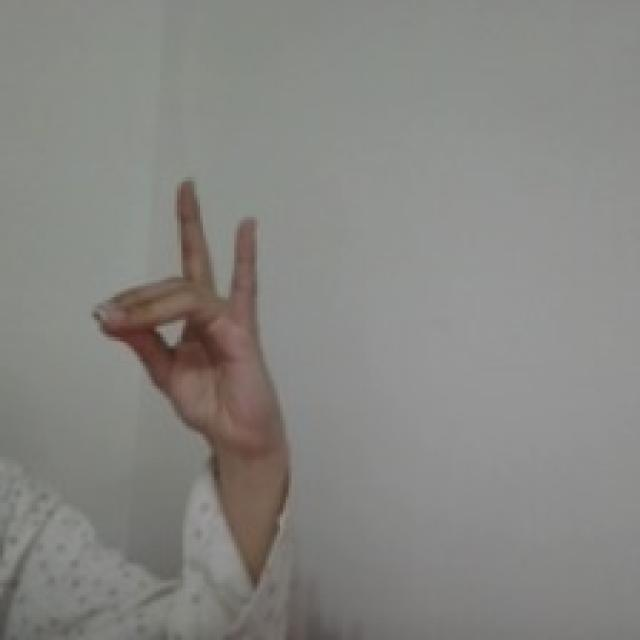Dog: (81, 170, 289, 458)
